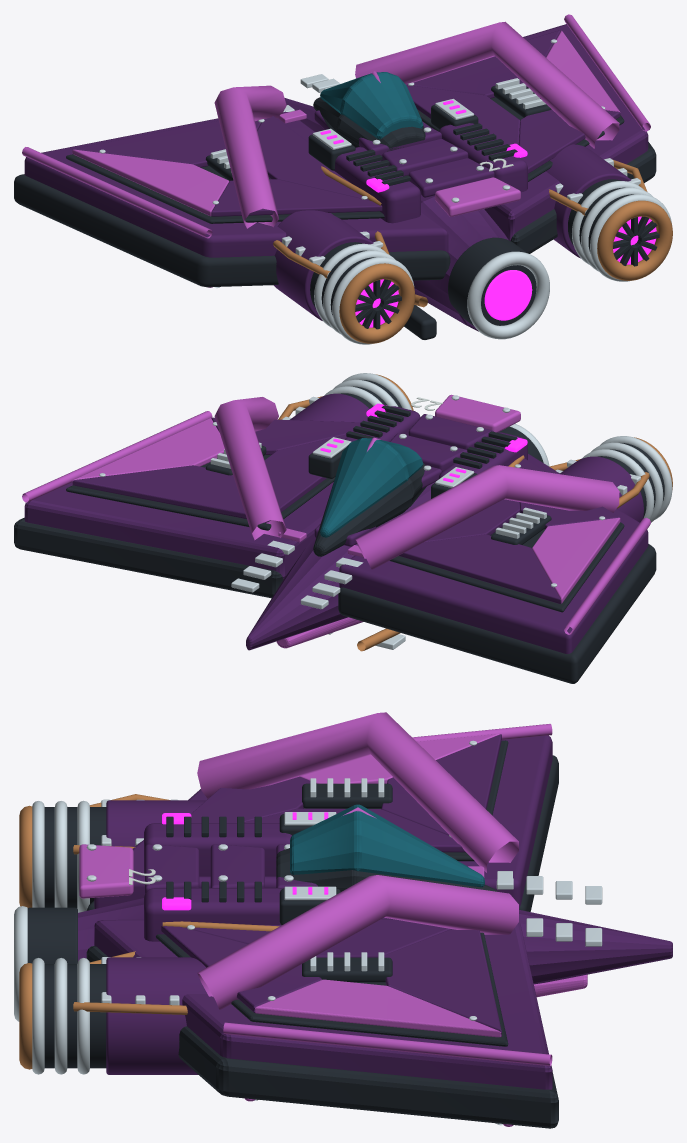
3 renders of one model, top to bottom at view 1: azimuth 30°, elevation 25°; view 2: azimuth 150°, elevation 25°; view 3: azimuth 270°, elevation 25°, orthographic. The views are drawn at different scales.
Parts seen in each view (by area): view 1: SolidHull_22; view 2: SolidHull_22; view 3: SolidHull_22.
Boxes of the visible parts, x1,y1,x2,y2 form: SolidHull_22: (14,14,672,344); SolidHull_22: (14,373,672,683); SolidHull_22: (14,712,672,1128).
Bounding box in the file's own units: 3.58 × 1.22 × 2.91.
